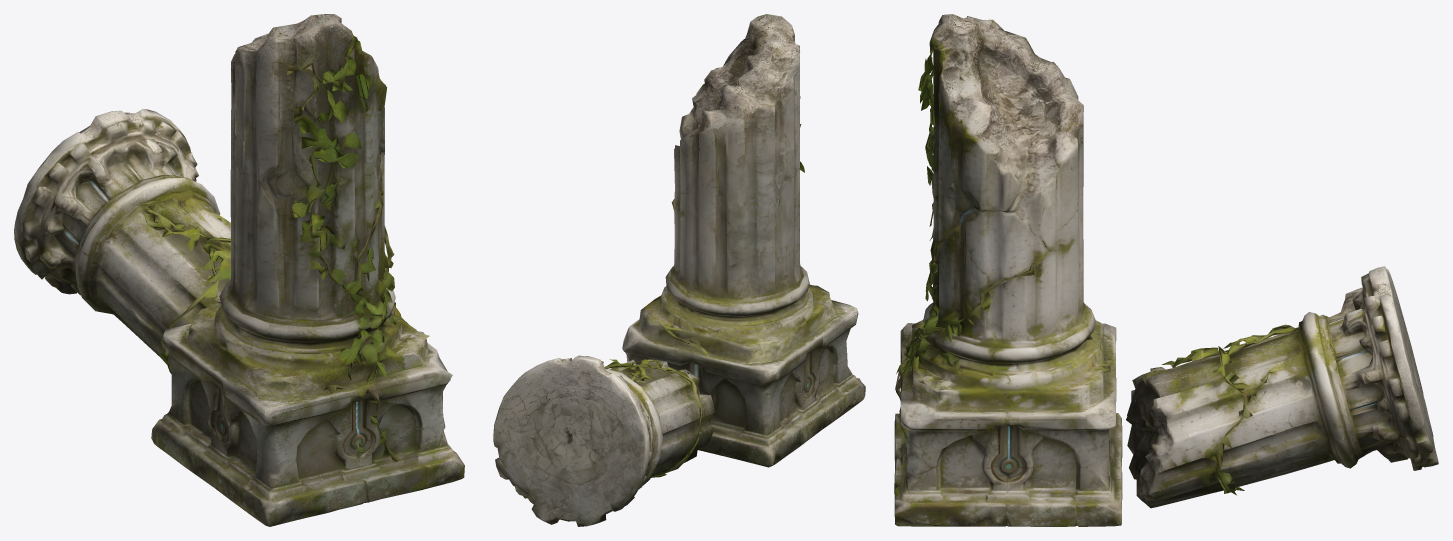
The model's file is env_pillar.glb.
3 renders of one model, left to right at view 1: azimuth 30°, elevation 25°; view 2: azimuth 150°, elevation 25°; view 3: azimuth 270°, elevation 25°, orthographic. The views are drawn at different scales.
Visible parts, largest first — view 1: tripo_node_119619ef-9928-46cb-b3e9-6708cc0d794d; view 2: tripo_node_119619ef-9928-46cb-b3e9-6708cc0d794d; view 3: tripo_node_119619ef-9928-46cb-b3e9-6708cc0d794d.
Boxes of the visible parts, x1,y1,x2,y2 form: tripo_node_119619ef-9928-46cb-b3e9-6708cc0d794d: (14,14,464,526); tripo_node_119619ef-9928-46cb-b3e9-6708cc0d794d: (493,14,865,526); tripo_node_119619ef-9928-46cb-b3e9-6708cc0d794d: (894,14,1438,526).
Bounding box in the file's own units: 0.4113 × 0.9505 × 1.
Materials: 1 (1 with a texture image).
